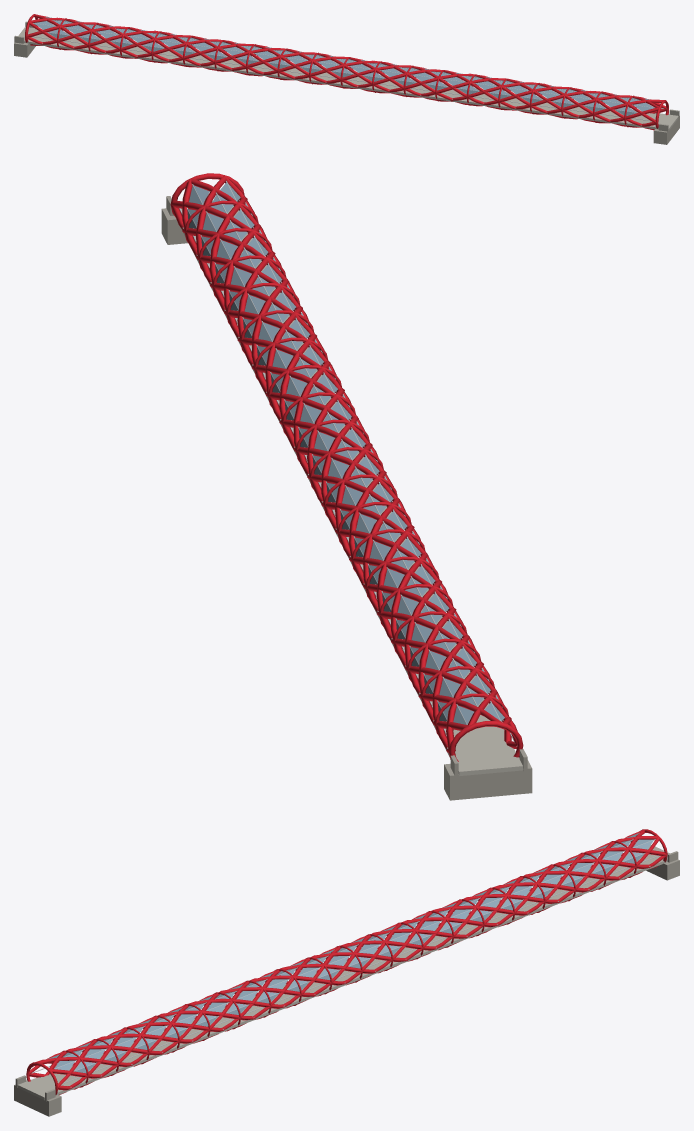
File: calgary-peace-bridge-far.glb
3 renders of one model, top to bottom at view 1: azimuth 30°, elevation 25°; view 2: azimuth 150°, elevation 25°; view 3: azimuth 270°, elevation 25°, orthographic. The views are drawn at different scales.
Visible parts, largest first — view 1: calgary-peace-bridge-0-steel, calgary-peace-bridge-0-glow, calgary-peace-bridge-0-deck, calgary-peace-bridge-0-rail, calgary-peace-bridge-0-concrete; view 2: calgary-peace-bridge-0-steel, calgary-peace-bridge-0-glow, calgary-peace-bridge-0-deck, calgary-peace-bridge-0-concrete, calgary-peace-bridge-0-rail; view 3: calgary-peace-bridge-0-steel, calgary-peace-bridge-0-glow, calgary-peace-bridge-0-deck, calgary-peace-bridge-0-rail, calgary-peace-bridge-0-concrete.
Boxes of the visible parts, left/top/right/bottom form: calgary-peace-bridge-0-steel: left=25, top=14, right=668, bottom=130; calgary-peace-bridge-0-glow: left=34, top=17, right=653, bottom=115; calgary-peace-bridge-0-deck: left=18, top=27, right=678, bottom=130; calgary-peace-bridge-0-rail: left=32, top=17, right=664, bottom=121; calgary-peace-bridge-0-concrete: left=14, top=21, right=679, bottom=144; calgary-peace-bridge-0-steel: left=170, top=173, right=523, bottom=761; calgary-peace-bridge-0-glow: left=187, top=182, right=504, bottom=724; calgary-peace-bridge-0-deck: left=180, top=200, right=522, bottom=775; calgary-peace-bridge-0-concrete: left=161, top=196, right=532, bottom=800; calgary-peace-bridge-0-rail: left=179, top=181, right=514, bottom=742; calgary-peace-bridge-0-steel: left=26, top=829, right=667, bottom=1095; calgary-peace-bridge-0-glow: left=49, top=833, right=653, bottom=1073; calgary-peace-bridge-0-deck: left=17, top=844, right=669, bottom=1100; calgary-peace-bridge-0-rail: left=31, top=832, right=658, bottom=1083; calgary-peace-bridge-0-concrete: left=14, top=851, right=679, bottom=1116.
Size of the model in its own units: 93.46 by 6.95 by 102.
